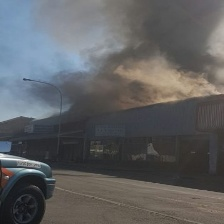smoke: (50, 1, 224, 116)
